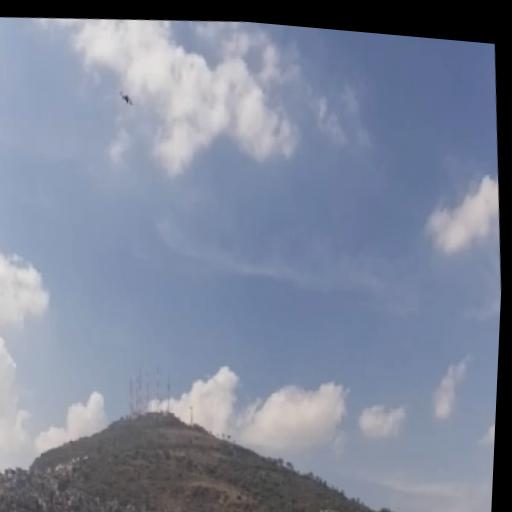drones: (111, 77, 138, 114)
